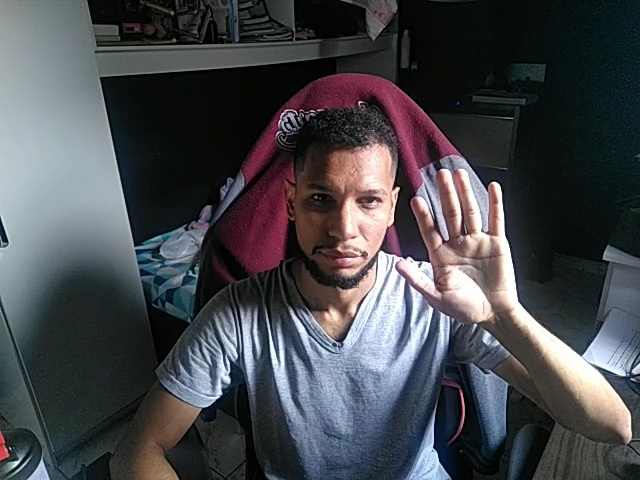oi: (382, 162, 532, 330)
